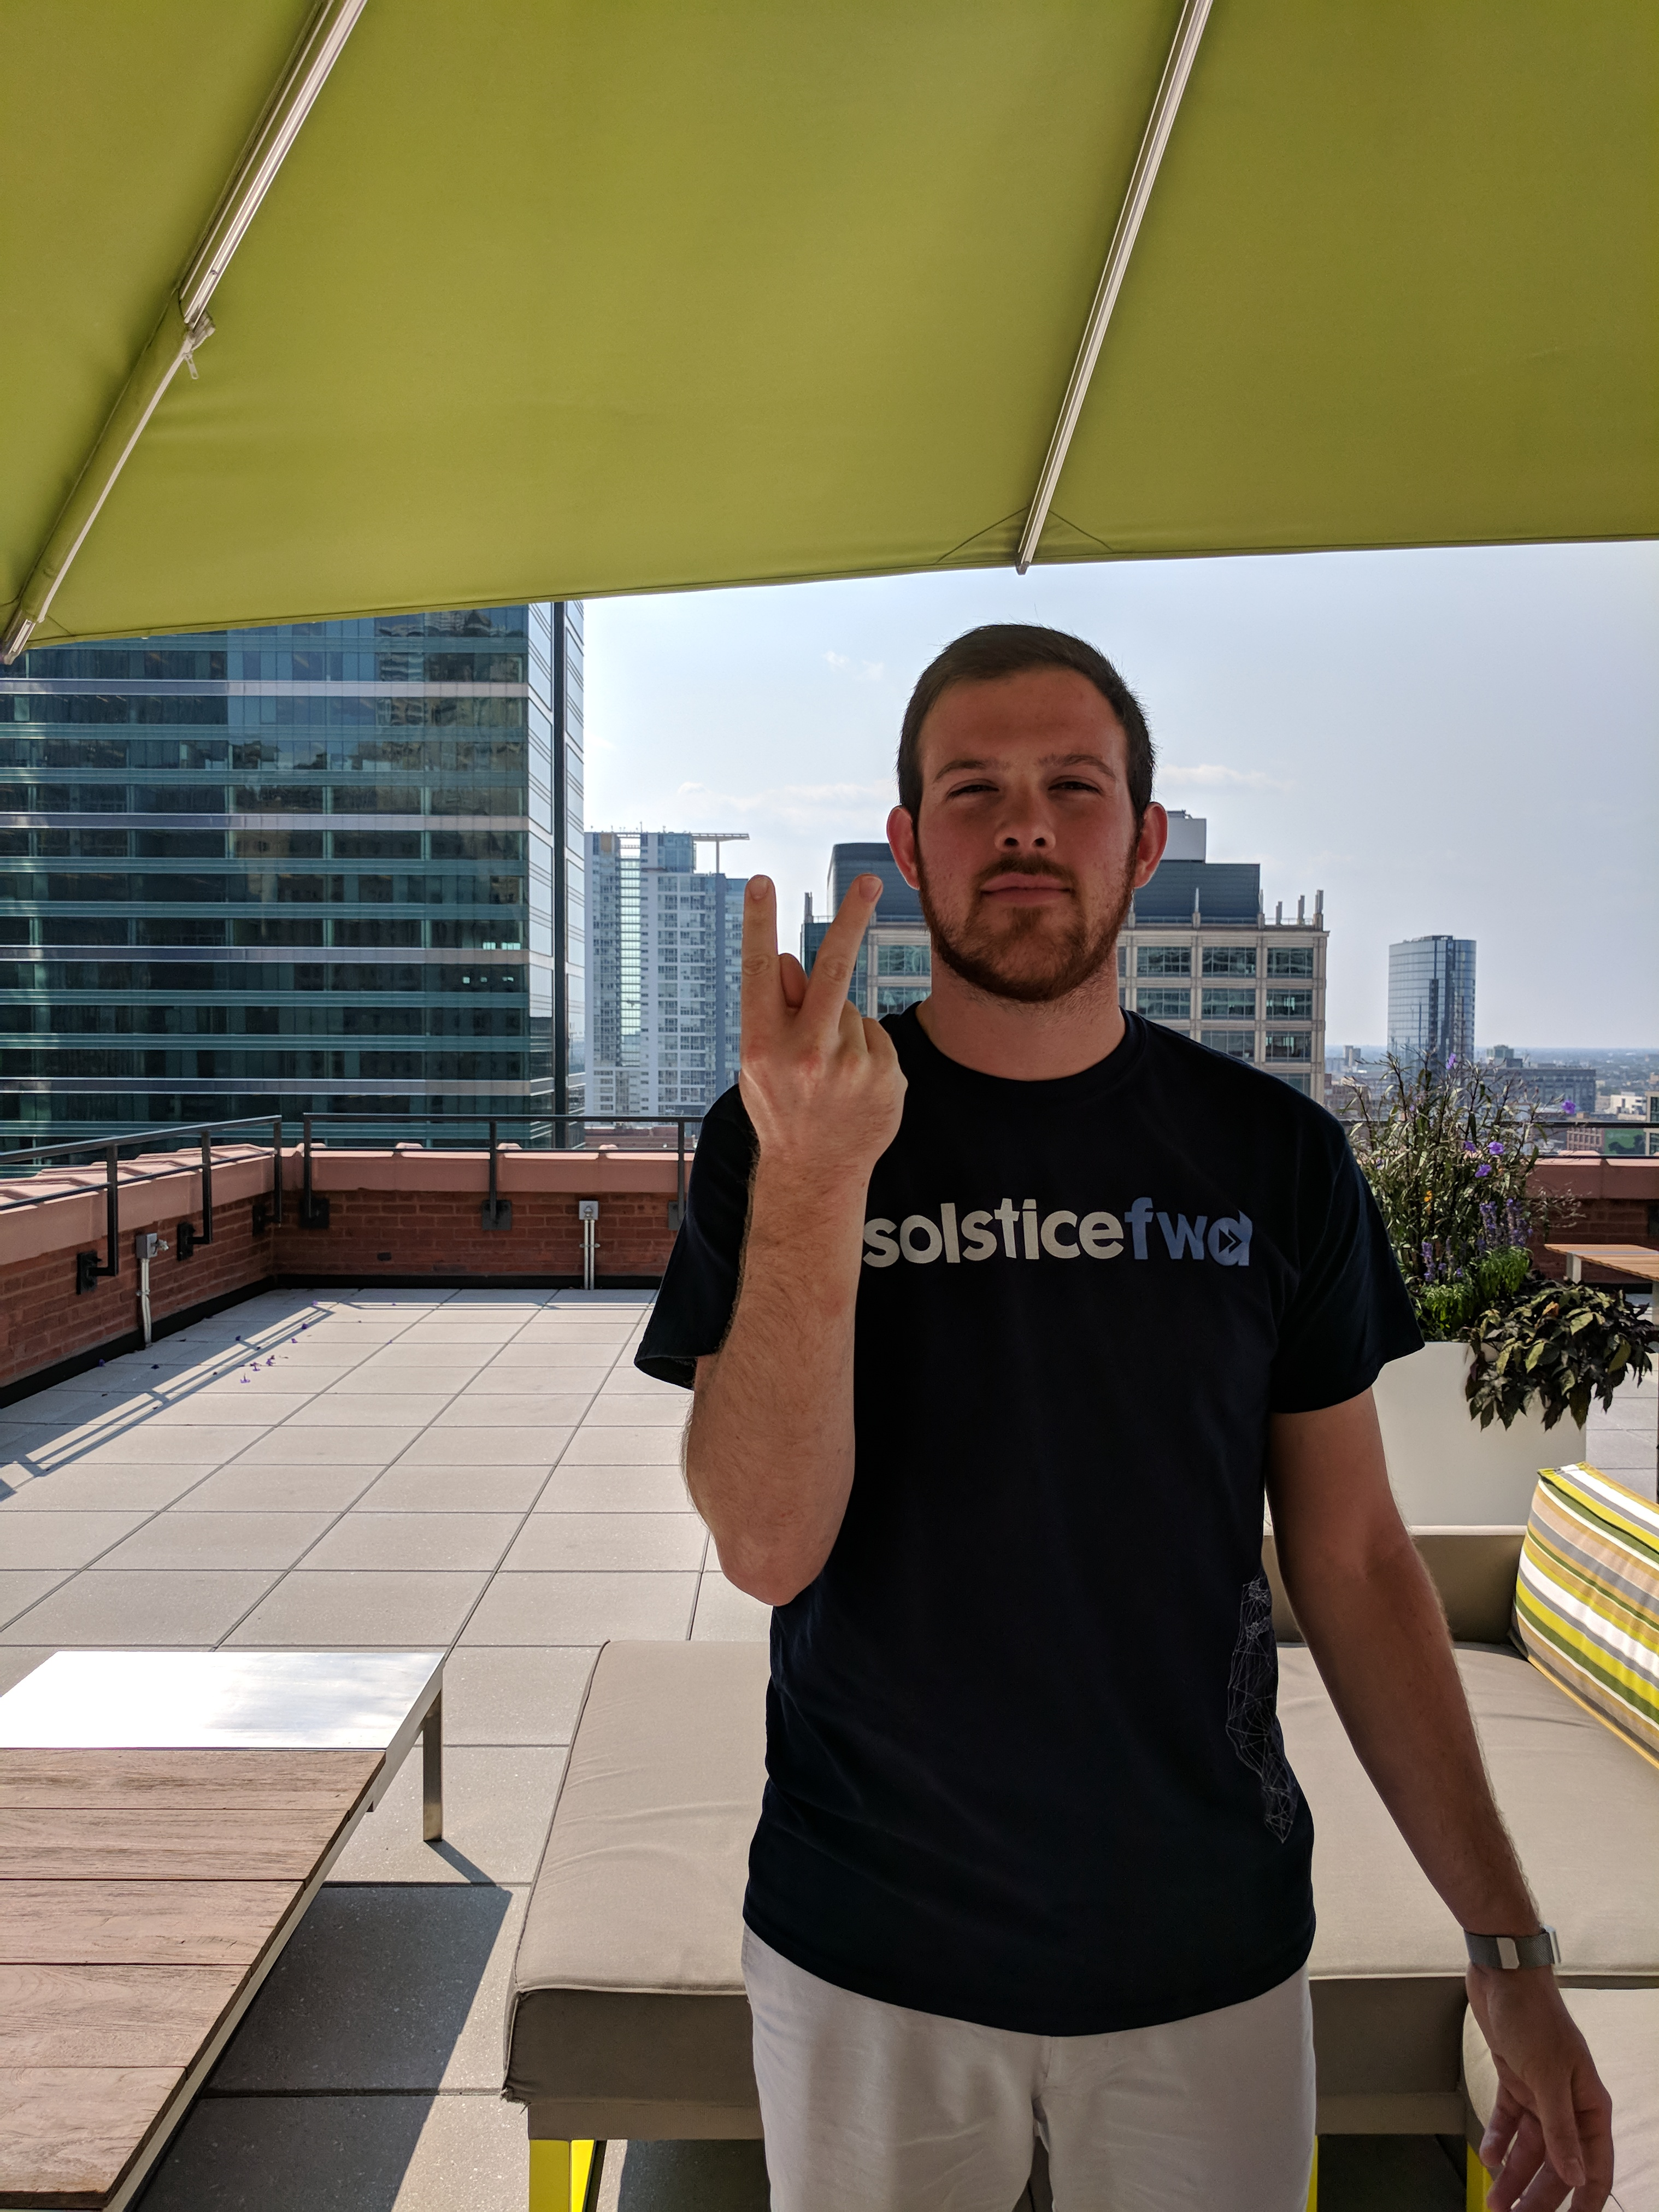k: (725, 862, 945, 1183)
